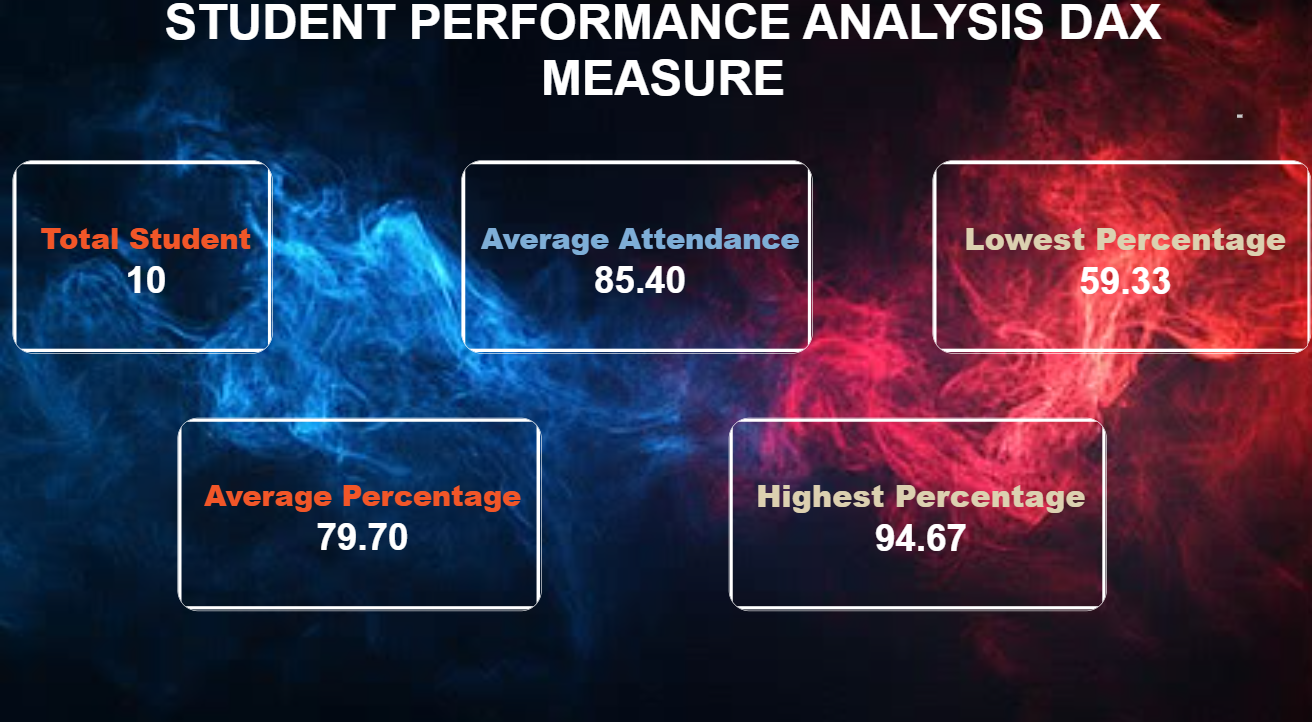

The dashboard page shown, as its layout file describes it:
{"tool":"powerbi","page":{"name":"Page 2","canvas":[1920,1080],"ordinal":1},"visuals":[{"type":"cardVisual","fields":{"Data":["Student_Performance.Total Student"]},"box":[18.5,240.8,376.7,279.9],"z":0},{"type":"cardVisual","fields":{"Data":["Student_Performance.Average Percentage"]},"box":[257.3,613.4,526.9,279.9],"z":1000},{"type":"cardVisual","fields":{"Data":["Student_Performance.Average Attendance"]},"box":[666.9,240.8,508.4,279.9],"z":2000},{"type":"cardVisual","fields":{"Data":["Student_Performance.Highest Percentage"]},"box":[1055.9,613.4,547.5,279.9],"z":3000},{"type":"cardVisual","fields":{"Data":["Student_Performance.Lowest Percentage"]},"box":[1350.3,240.8,549.6,279.9],"z":4000},{"type":"textbox","title":"STUDENT PERFORMANCE ANALYSIS DAX MEASURE","box":[121.2,0,1677.6,179.2],"z":5000}]}

Visuals, with their boxes in screenshot pixels (x1, y1, x2, y2), scaled from the page's 1920x1080 canvas onto the 1312x722 screenshot:
cardVisual - Student_Performance.Total Student: region(13, 161, 270, 348)
cardVisual - Student_Performance.Average Percentage: region(176, 410, 536, 597)
cardVisual - Student_Performance.Average Attendance: region(456, 161, 803, 348)
cardVisual - Student_Performance.Highest Percentage: region(722, 410, 1096, 597)
cardVisual - Student_Performance.Lowest Percentage: region(923, 161, 1298, 348)
"STUDENT PERFORMANCE ANALYSIS DAX MEASURE" textbox: region(83, 0, 1229, 120)
